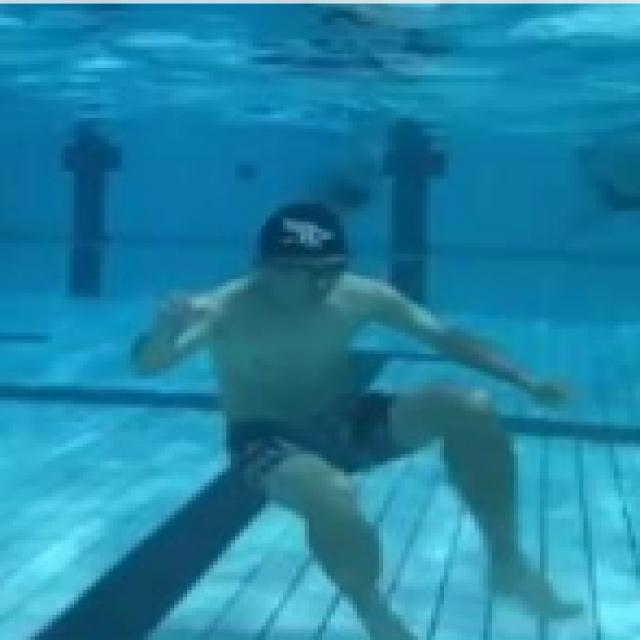Drowning: (124, 205, 585, 640)
